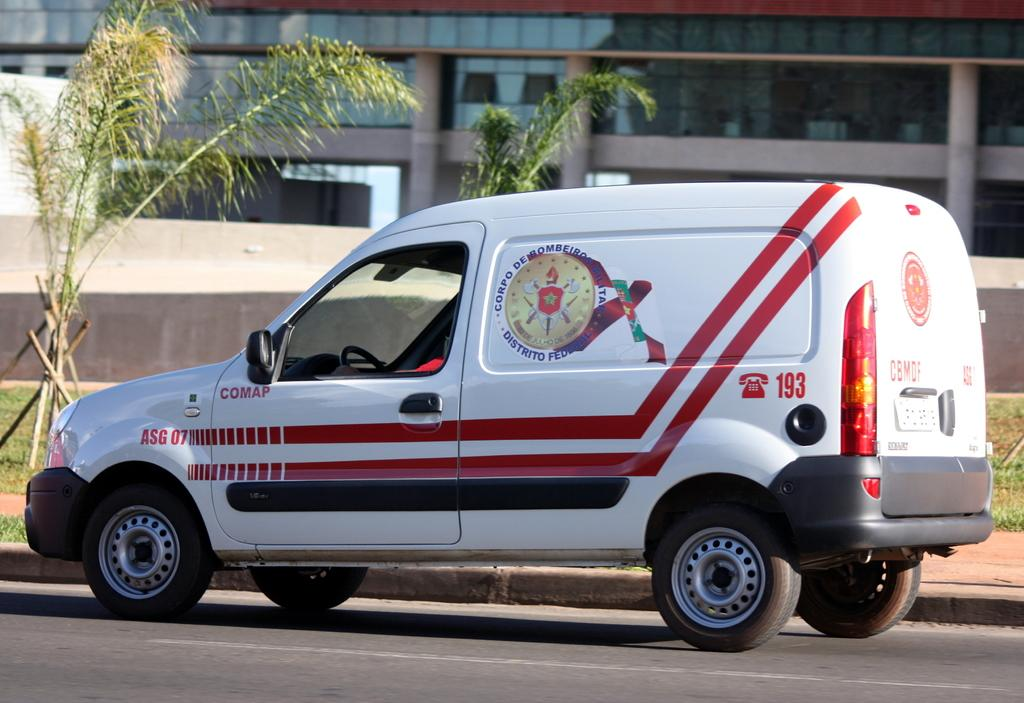vehicle: (24, 181, 996, 653)
